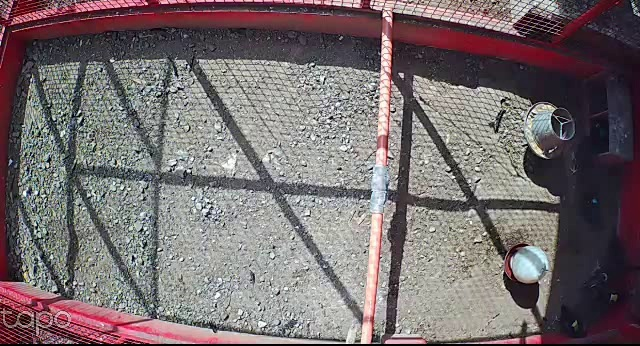Drinker: (502, 243, 550, 287)
Feeder: (522, 101, 576, 160)
